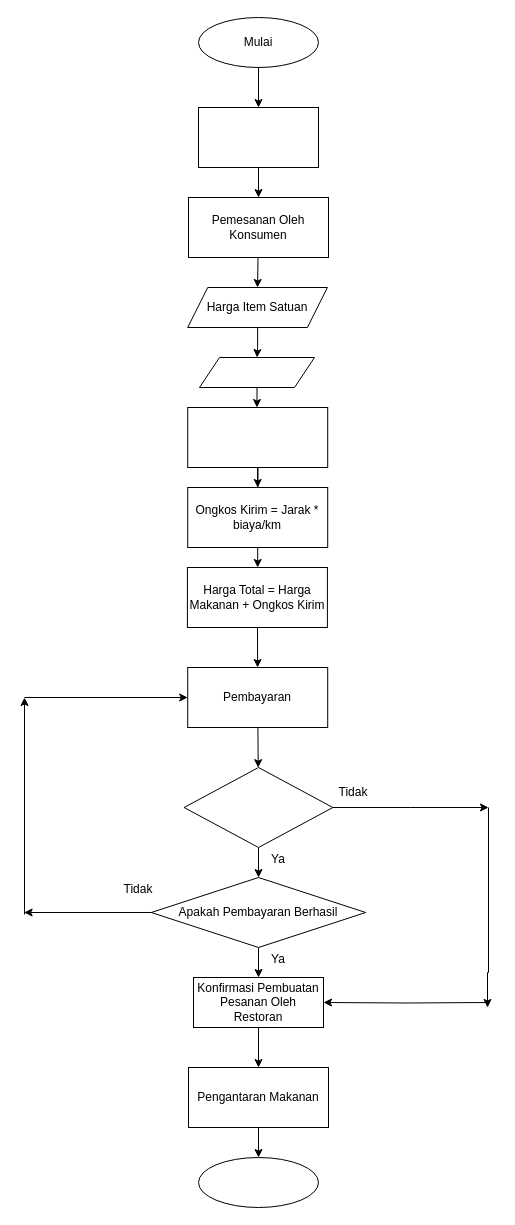
Image size: 515x1225. Some labels were removed from this diagram. The box of each missing label's shape, as (x1, y1, x2, y2) in pixels:
Apakah Non-Tunai: (183, 766, 333, 848)
Buka Sistem Pemesanan: (198, 106, 318, 168)
Harga Makanan = Σ(Jumlah Item x Harga Satuan): (187, 406, 328, 468)
Jarak Lokasi: (198, 356, 314, 388)
Selesai: (198, 1156, 318, 1208)
